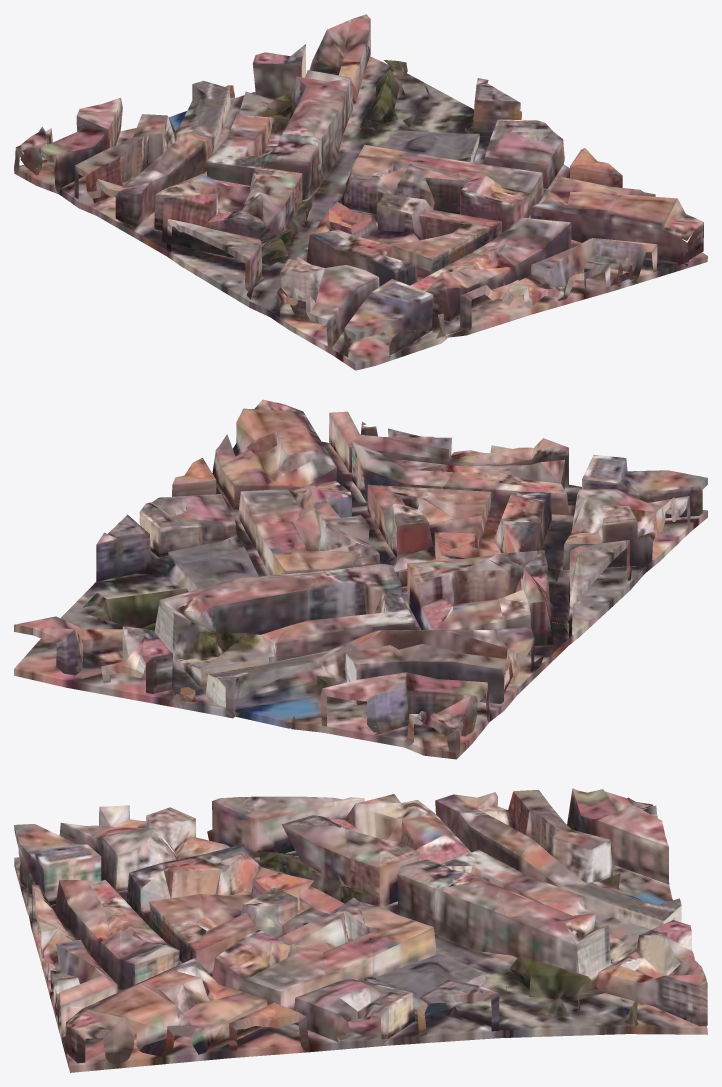
The picture shows the model from 3 angles, top to bottom: view 1: azimuth 30°, elevation 25°; view 2: azimuth 150°, elevation 25°; view 3: azimuth 270°, elevation 25°; orthographic projection. The views are drawn at different scales.
Parts seen in each view (by area): view 1: Mesh_0; view 2: Mesh_0; view 3: Mesh_0.
Part boxes in pixels (x1,y1,x2,y2): Mesh_0: (14,14,707,370); Mesh_0: (14,399,707,759); Mesh_0: (14,788,707,1072).
Bounding box in the file's own units: 266 × 37.32 × 330.
2 materials, 2 textured.
